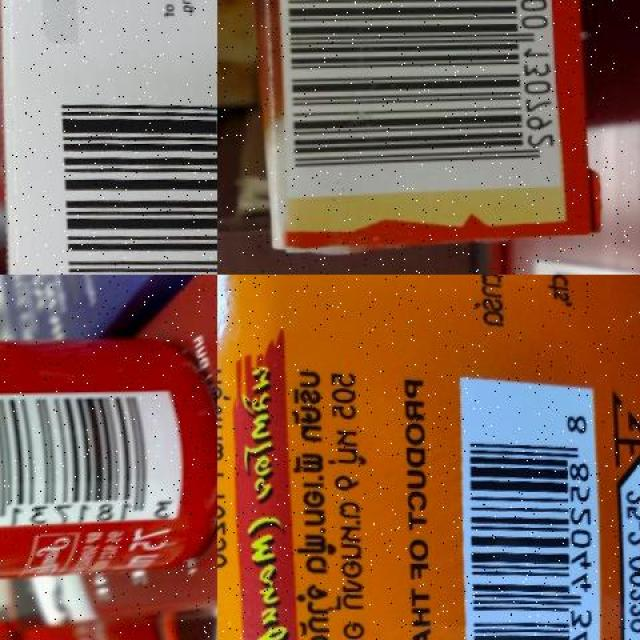Barcode: (271, 0, 556, 196), (446, 390, 604, 640), (43, 63, 217, 274), (0, 389, 184, 534)
